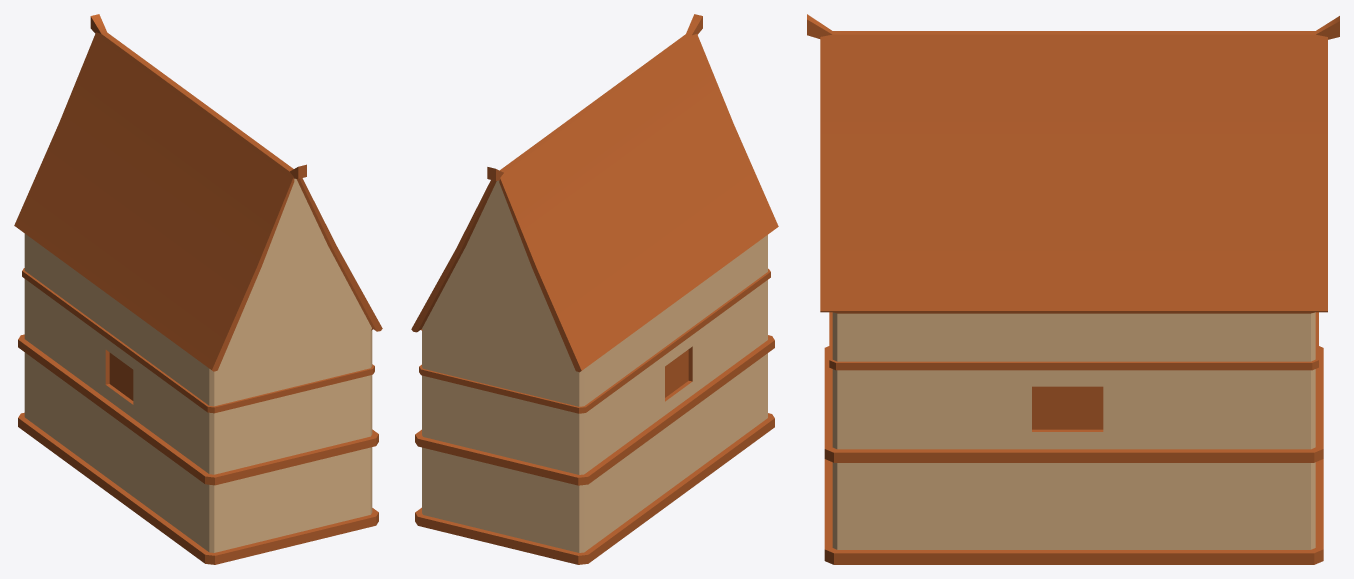
The model's file is high house.fbx.
3 renders of one model, left to right at view 1: azimuth 30°, elevation 25°; view 2: azimuth 150°, elevation 25°; view 3: azimuth 270°, elevation 25°, orthographic. The views are drawn at different scales.
Visible parts, largest first — view 1: pCube9; view 2: pCube9; view 3: pCube9.
Boxes of the visible parts, left/top/right/bottom form: pCube9: left=14, top=14, right=382, bottom=564; pCube9: left=411, top=14, right=778, bottom=564; pCube9: left=807, top=14, right=1339, bottom=564.
Bounding box in the file's own units: 160 × 338 × 331.
1 material, 1 textured.
